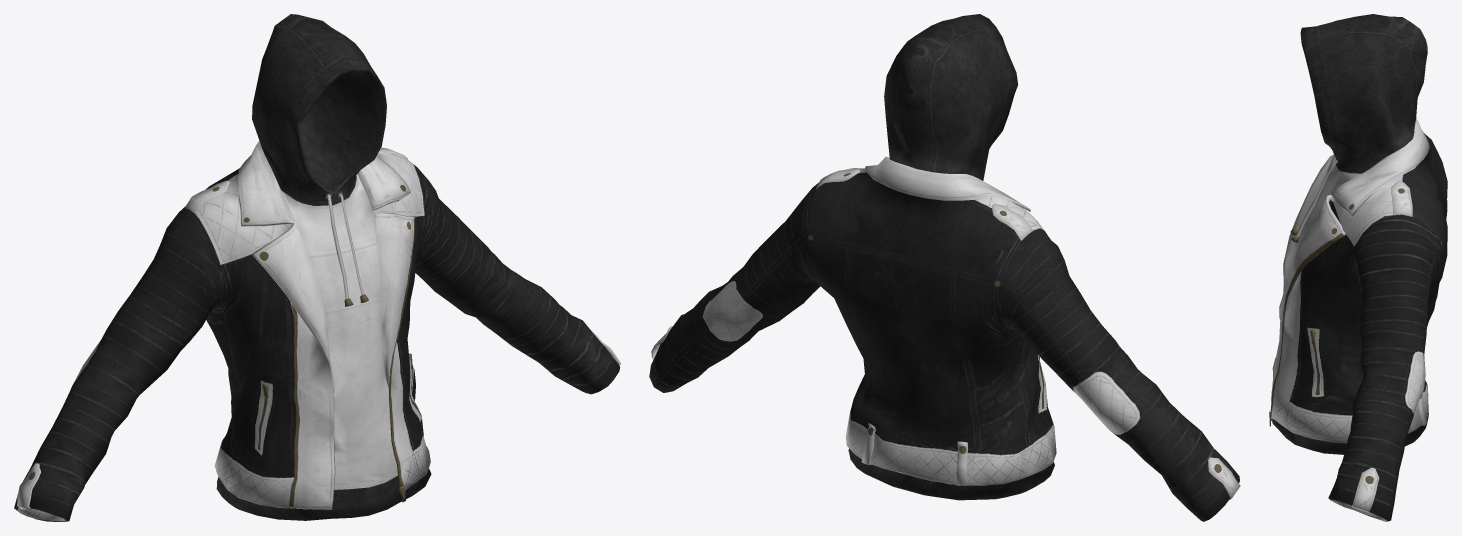
Rendered from SurvivorMale_Chest_Jacket_PaddedLeather_Up_LOD0.glb.
3 views of the same model, side by side, from view 1: azimuth 30°, elevation 25°; view 2: azimuth 150°, elevation 25°; view 3: azimuth 270°, elevation 25° (orthographic). The views are drawn at different scales.
Visible parts, largest first — view 1: Hoodie; view 2: Hoodie; view 3: Hoodie.
Part boxes in pixels (x1,y1,x2,y2): Hoodie: (14, 14, 620, 521); Hoodie: (649, 14, 1240, 521); Hoodie: (1269, 14, 1447, 521).
Bounding box in the file's own units: 1.18 × 0.8505 × 0.3443.
1 material, 1 textured.
